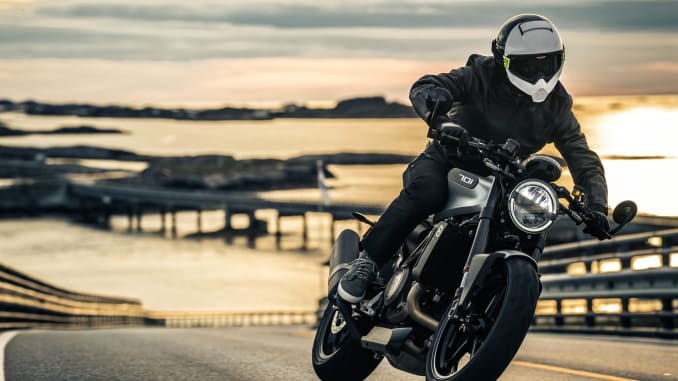motorcycle: (312, 89, 638, 381)
